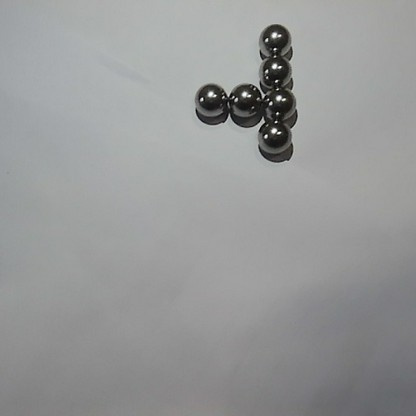ironball: (256, 21, 298, 59), (192, 81, 228, 125), (226, 79, 261, 120), (261, 86, 298, 123), (252, 122, 292, 156), (253, 58, 297, 86)
